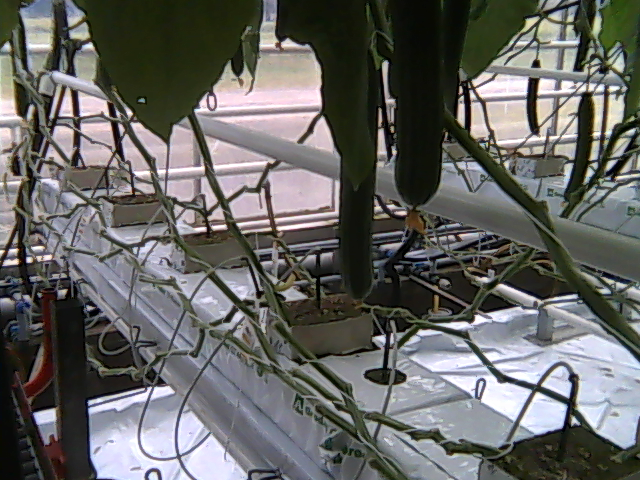concombre: (387, 1, 449, 236), (338, 46, 378, 309)
